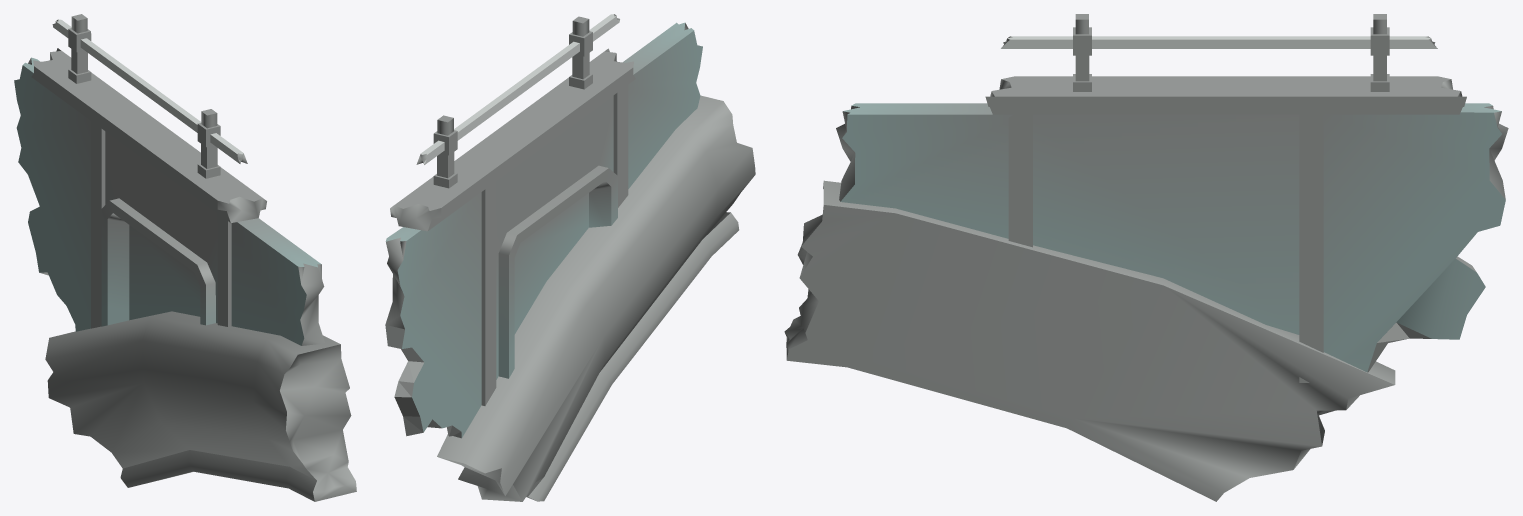
3 views of the same model, side by side, from view 1: azimuth 30°, elevation 25°; view 2: azimuth 150°, elevation 25°; view 3: azimuth 270°, elevation 25° (orthographic). The views are drawn at different scales.
Visible parts, largest first — view 1: G:\FFXIV-MapTools\exports\e3f2\bg\ex2\02_est_e3\fld\e3f2\bgp (×5); view 2: G:\FFXIV-MapTools\exports\e3f2\bg\ex2\02_est_e3\fld\e3f2\bgp (×5); view 3: G:\FFXIV-MapTools\exports\e3f2\bg\ex2\02_est_e3\fld\e3f2\bgp (×5).
Part boxes in pixels (x1,y1,x2,y2): G:\FFXIV-MapTools\exports\e3f2\bg\ex2\02_est_e3\fld\e3f2\bgp (×5): (14, 14, 356, 501); G:\FFXIV-MapTools\exports\e3f2\bg\ex2\02_est_e3\fld\e3f2\bgp (×5): (385, 14, 755, 501); G:\FFXIV-MapTools\exports\e3f2\bg\ex2\02_est_e3\fld\e3f2\bgp (×5): (784, 14, 1508, 501).
Bounding box in the file's own units: 1.93 × 11.86 × 16.41.
